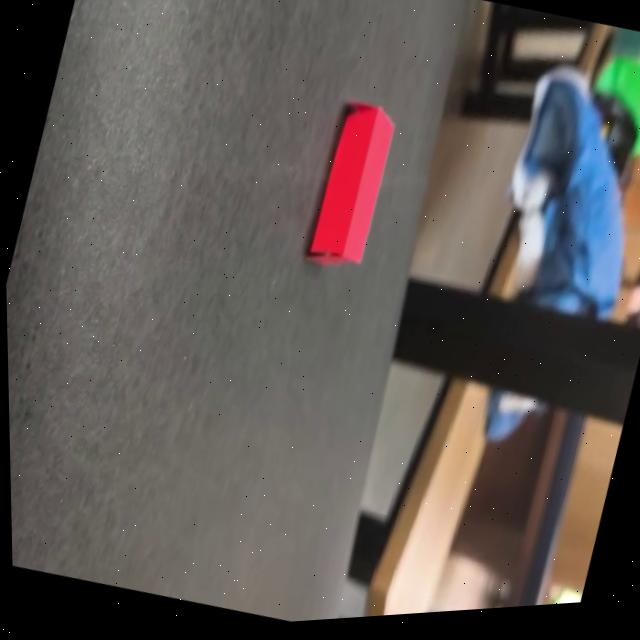red block: (300, 96, 402, 277)
